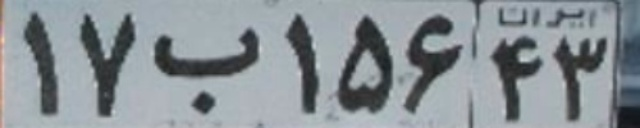1: (278, 11, 318, 113), (22, 16, 60, 114)
3: (549, 33, 608, 122)
4: (491, 34, 538, 121)
5: (333, 15, 396, 112)
6: (405, 14, 459, 112)
7: (74, 12, 139, 117)
be: (150, 25, 262, 114)
